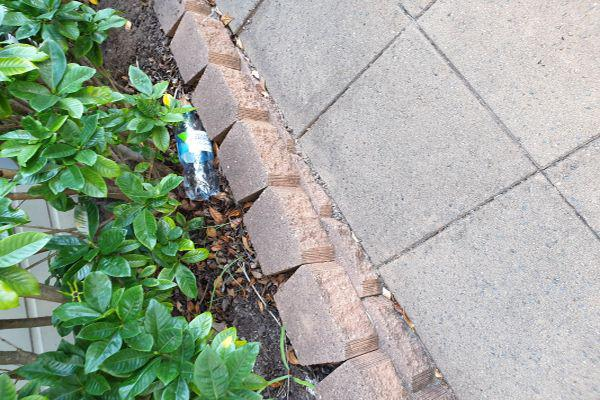Plastic Bottle: (174, 104, 221, 202)
